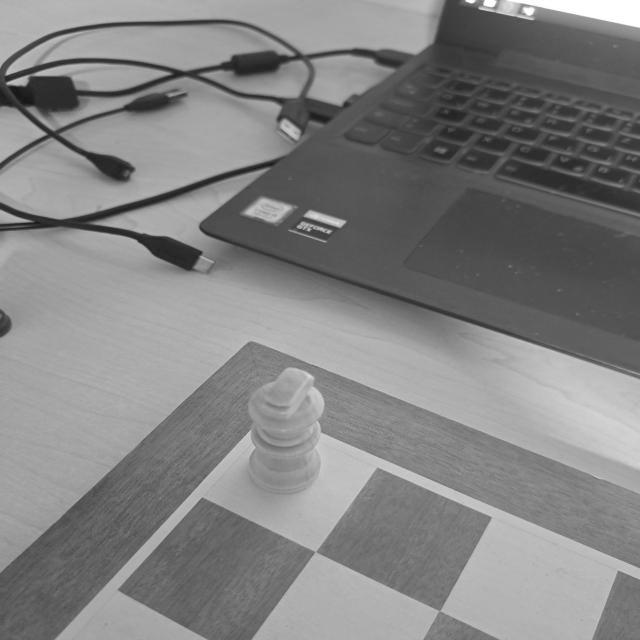chess-table-corners: (219, 400, 337, 458)
